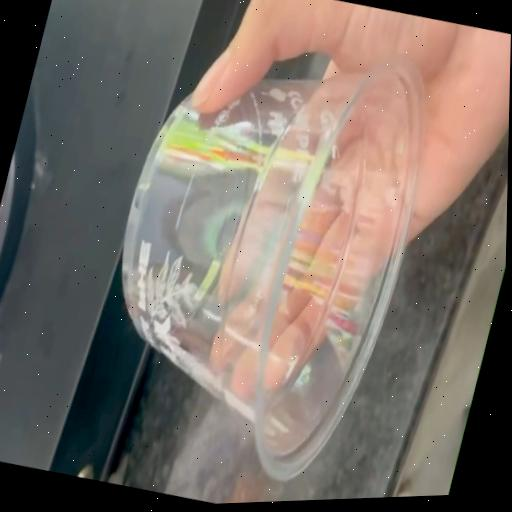ly_nhua: (123, 61, 423, 478)
